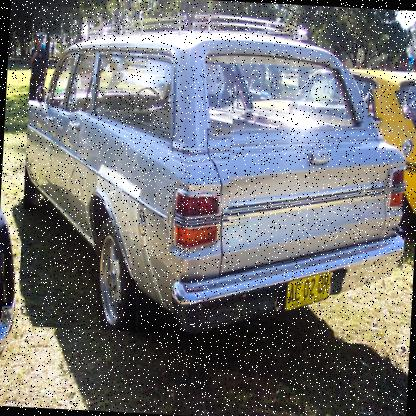Car: (17, 5, 416, 346), (227, 62, 415, 233), (0, 196, 21, 391), (366, 88, 415, 121), (260, 74, 298, 102)
